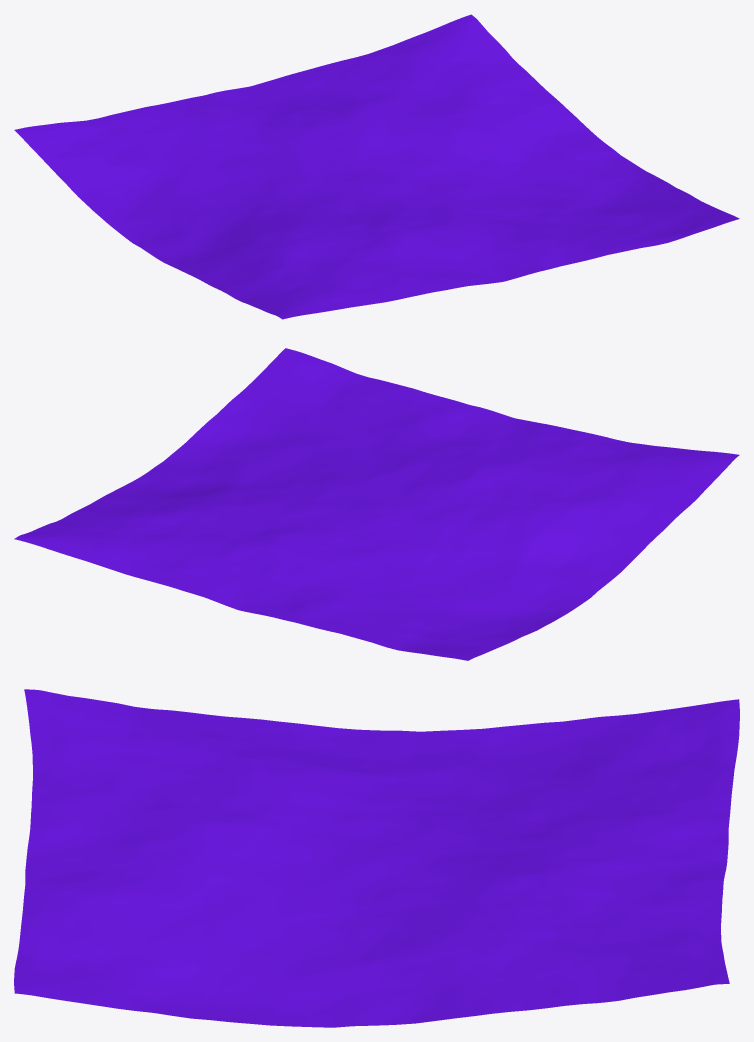
File: Ocean_scene.fbx
The picture shows the model from 3 angles, top to bottom: view 1: azimuth 30°, elevation 25°; view 2: azimuth 150°, elevation 25°; view 3: azimuth 270°, elevation 25°; orthographic projection. The views are drawn at different scales.
Parts seen in each view (by area): view 1: Mahavatar_Cosmic_Ocean; view 2: Mahavatar_Cosmic_Ocean; view 3: Mahavatar_Cosmic_Ocean.
Boxes of the visible parts, x1=… form: Mahavatar_Cosmic_Ocean: x1=14, y1=14, x2=739, y2=319; Mahavatar_Cosmic_Ocean: x1=14, y1=348, x2=739, y2=660; Mahavatar_Cosmic_Ocean: x1=14, y1=689, x2=739, y2=1027.
Size of the model in its own units: 4039 by 273 by 4167.
